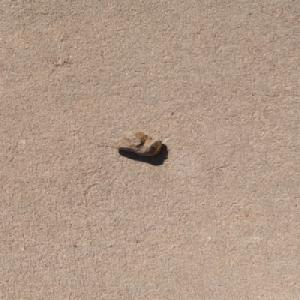Rock: (107, 130, 163, 156)
